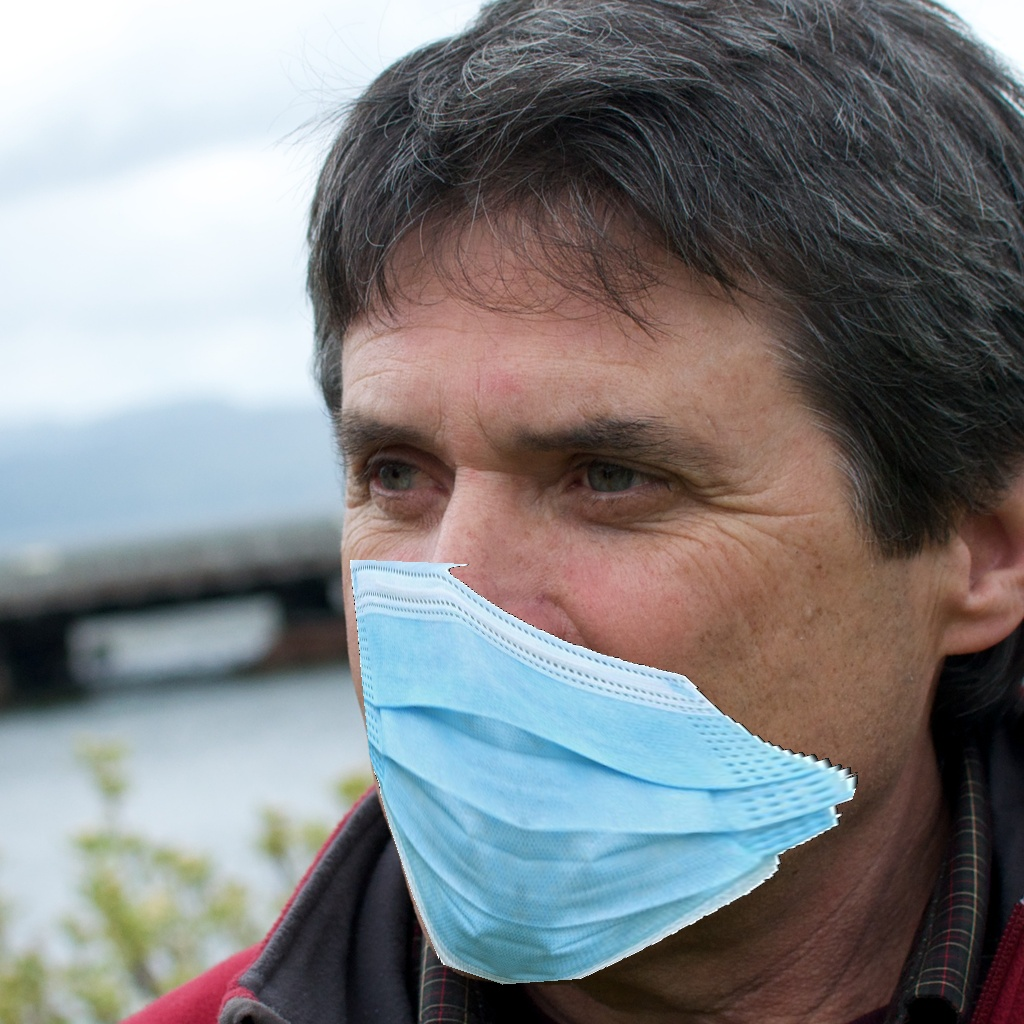Mask: (343, 356, 869, 985)
